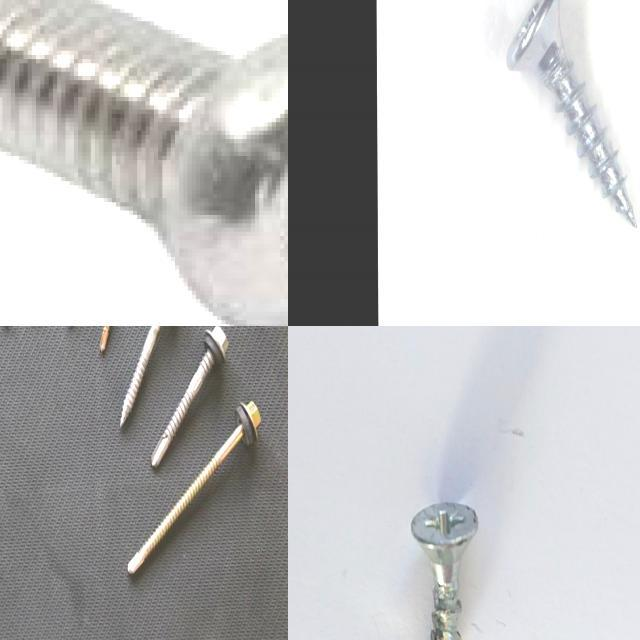Screw: (0, 0, 288, 326), (506, 0, 637, 226), (128, 400, 262, 574), (151, 326, 229, 467), (411, 501, 478, 640), (120, 326, 161, 426), (100, 326, 110, 352)
